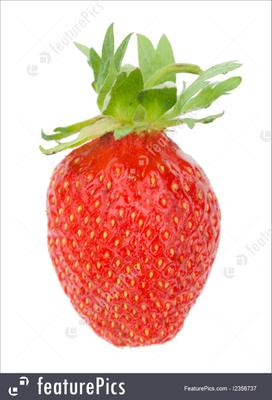strawberry: (0, 0, 272, 400)
